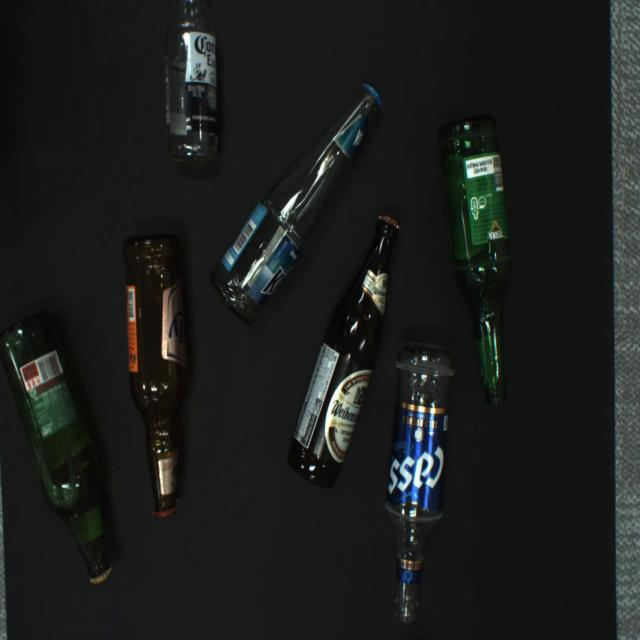beer-bottle: (210, 83, 383, 326), (287, 214, 402, 488), (0, 312, 113, 585), (438, 117, 512, 406), (385, 341, 455, 625), (122, 233, 189, 518), (164, 0, 218, 163)
